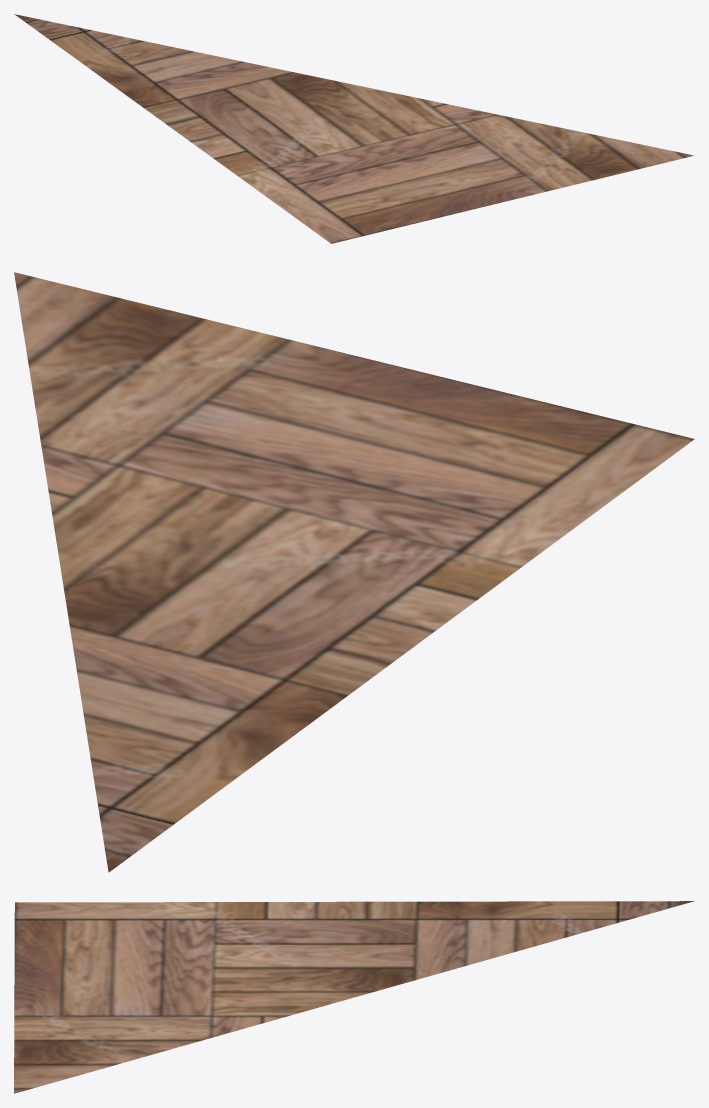
File: trianguloo.fbx
3 views of the same model, one above another, from view 1: azimuth 30°, elevation 25°; view 2: azimuth 150°, elevation 25°; view 3: azimuth 270°, elevation 25° (orthographic). The views are drawn at different scales.
Parts seen in each view (by area): view 1: Cone; view 2: Cone; view 3: Cone.
Boxes of the visible parts, x1,y1,x2,y2 form: Cone: (14,14,693,243); Cone: (14,272,694,872); Cone: (14,901,694,1093).
Bounding box in the file's own units: 200 × 0 × 298.
